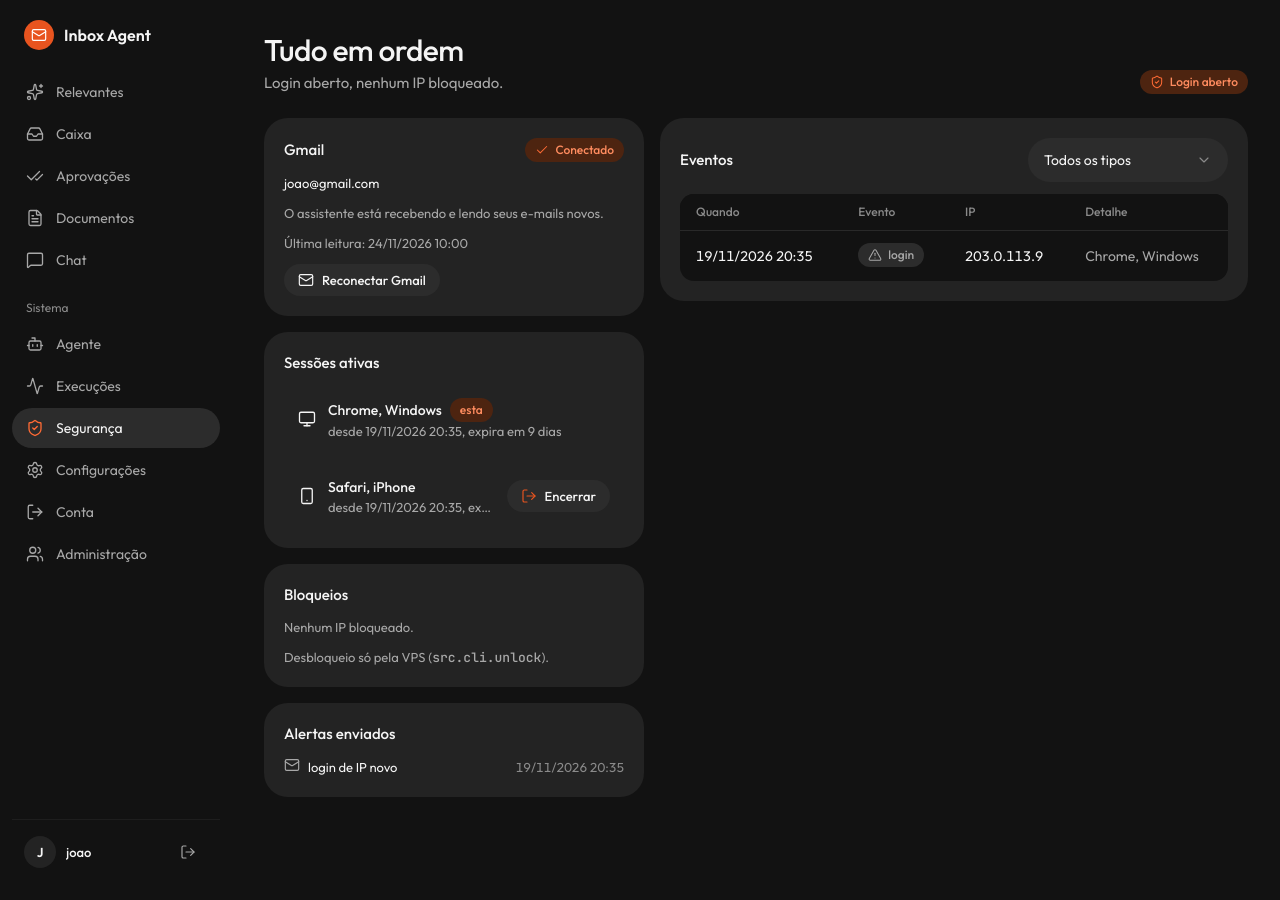
Test: reconnect_failure_is_reported_and_stays_on_the_page
Click the button "Reconectar Gmail". click: (362, 280)
box: [284,264,440,296]
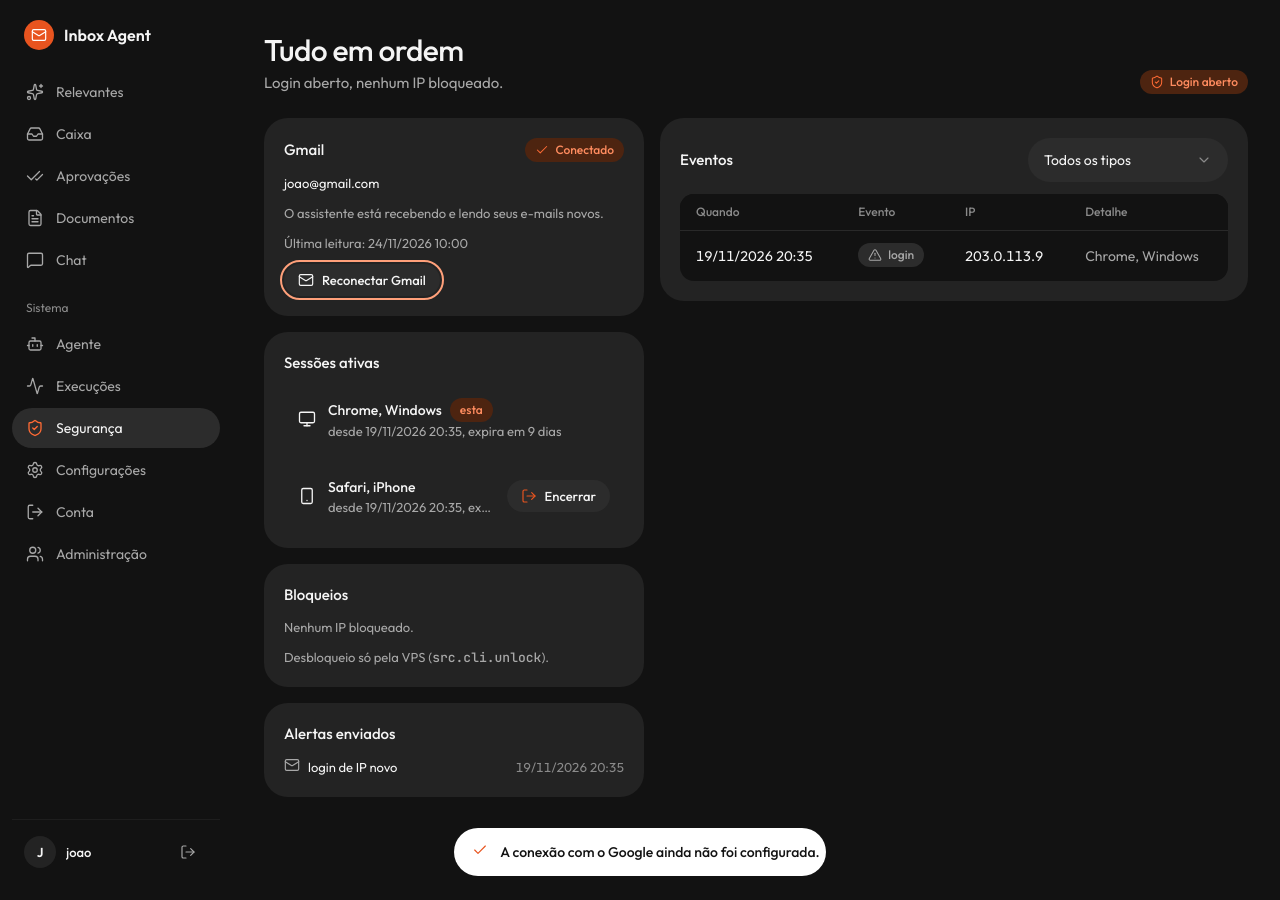
Expected: the text "A conexão com o Google ainda não foi configurada." is shown, [500,843,820,861]
